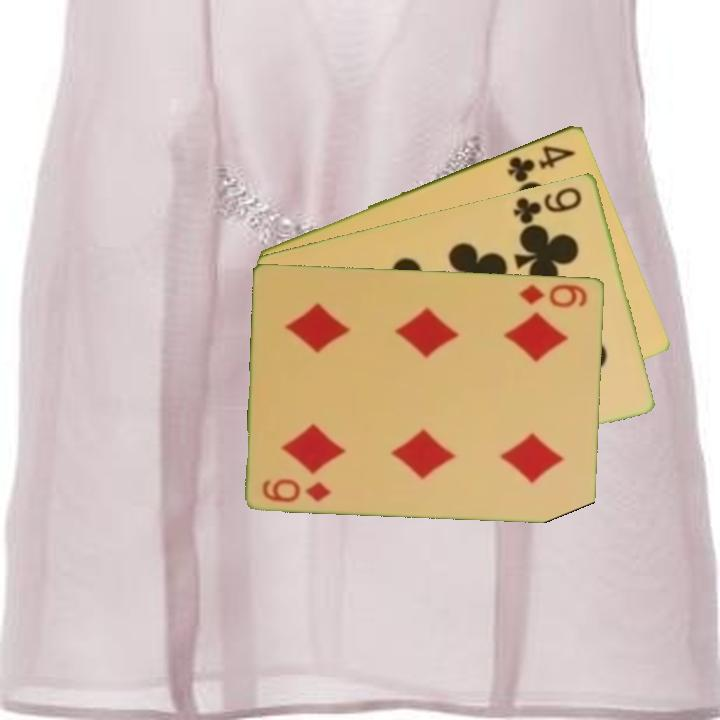4c: (504, 141, 578, 185)
6d: (259, 474, 335, 505), (516, 280, 591, 311)
9c: (510, 183, 585, 227)
